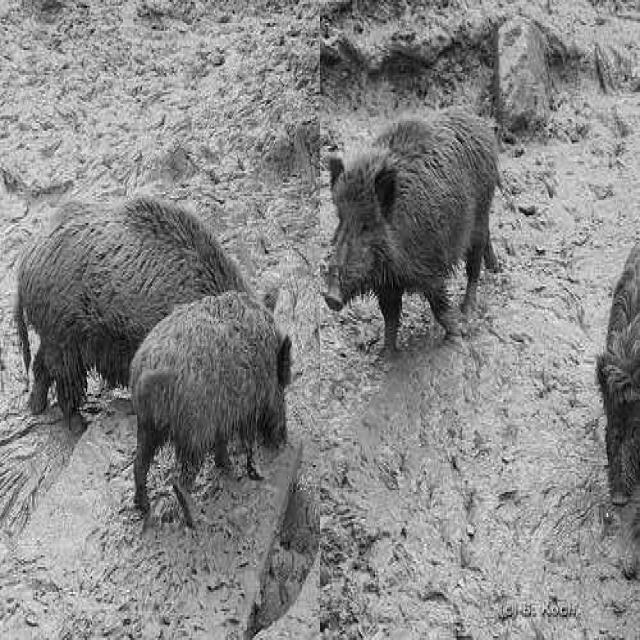boar: (14, 194, 243, 423), (324, 106, 498, 346), (129, 290, 288, 523), (598, 244, 640, 579)
